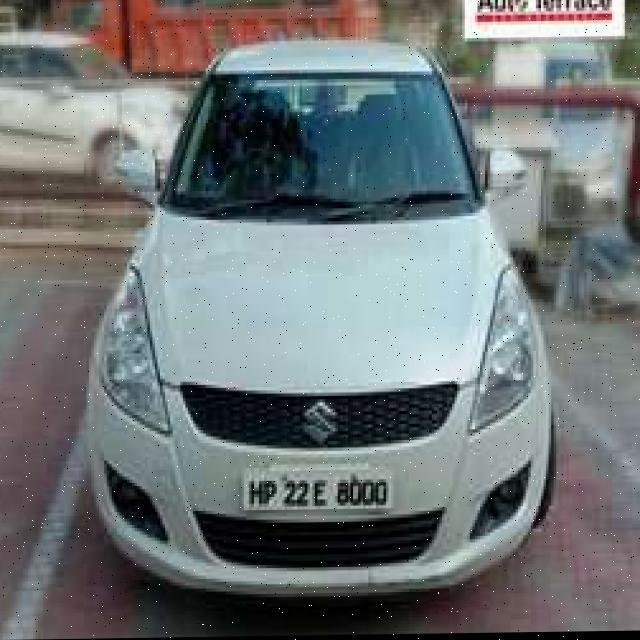plate: (241, 462, 397, 519)
